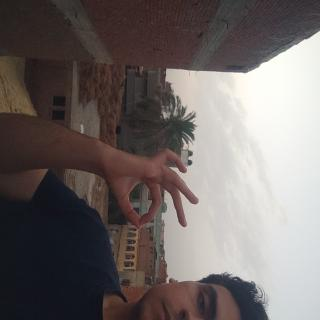Space: (106, 160, 174, 294)
